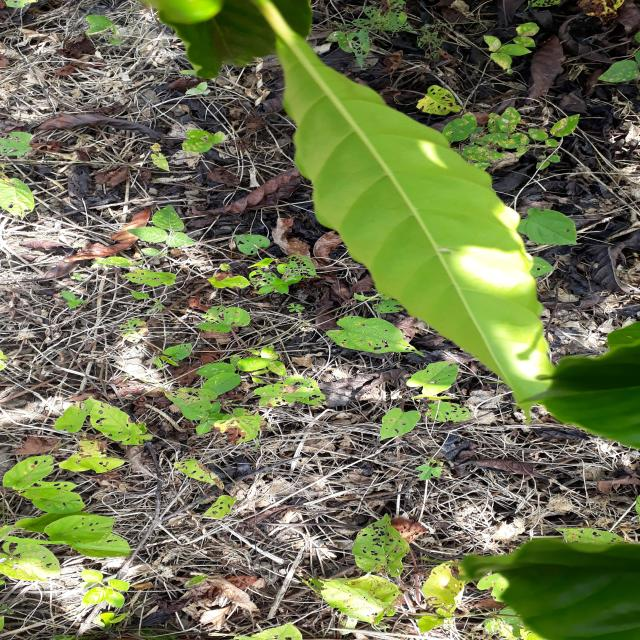Sanas: (261, 0, 560, 410)
